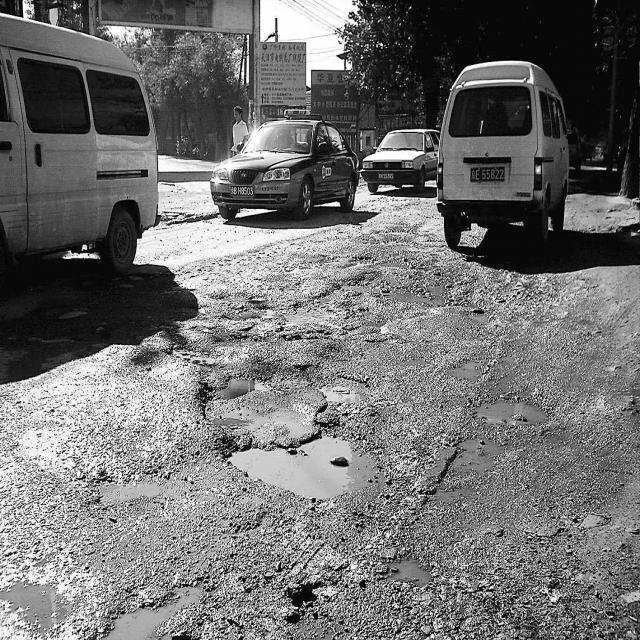pothole: (230, 442, 388, 508), (97, 579, 213, 640), (240, 294, 381, 342), (467, 393, 565, 437), (386, 271, 454, 312), (95, 477, 171, 512), (376, 551, 441, 591), (196, 370, 274, 403)
